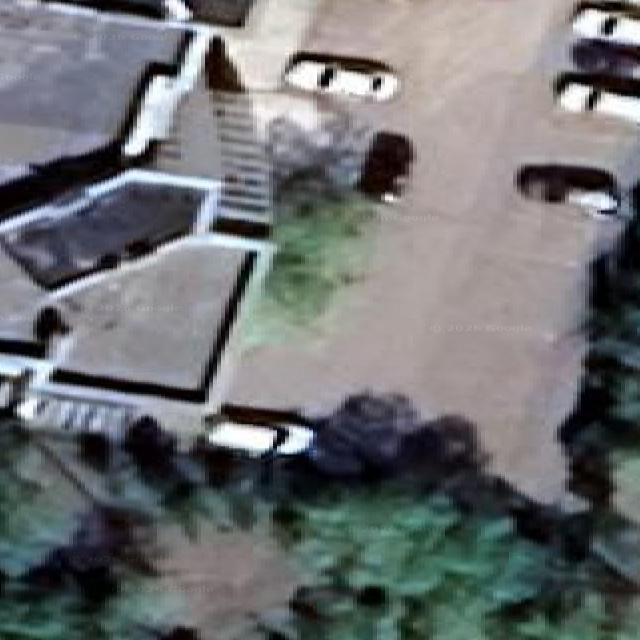car: (0, 181, 200, 287), (266, 116, 415, 200), (515, 163, 619, 216), (284, 52, 397, 100), (207, 404, 313, 455), (40, 0, 252, 24), (555, 71, 639, 123), (356, 132, 415, 200), (208, 420, 312, 455), (572, 2, 639, 44), (44, 0, 183, 18), (572, 39, 639, 75), (164, 0, 253, 27), (32, 306, 70, 343), (163, 0, 192, 18), (186, 15, 187, 16)
